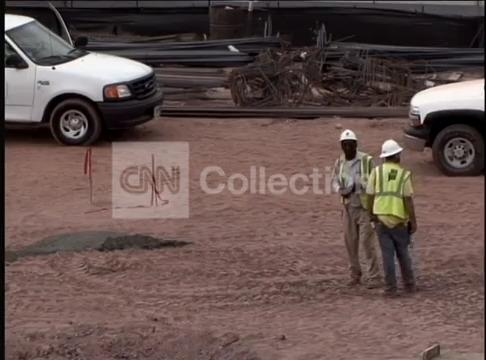Helmet: (378, 139, 403, 158), (339, 130, 358, 142)
Person: (330, 128, 383, 289), (364, 138, 418, 296)
Safety Boot: (407, 278, 423, 293), (363, 274, 380, 287), (346, 274, 361, 288), (384, 284, 400, 297)
Safety Vest: (340, 158, 370, 207), (376, 171, 406, 218)
bare-arms: (409, 216, 420, 232)
